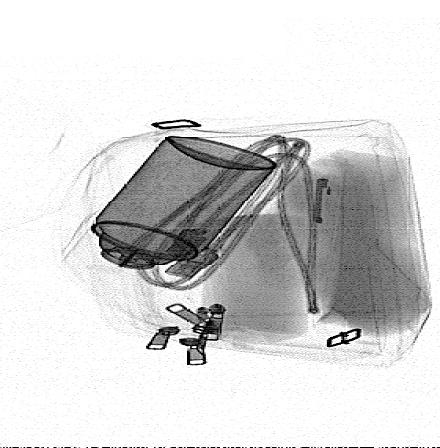Sprayer: (61, 134, 277, 295)
